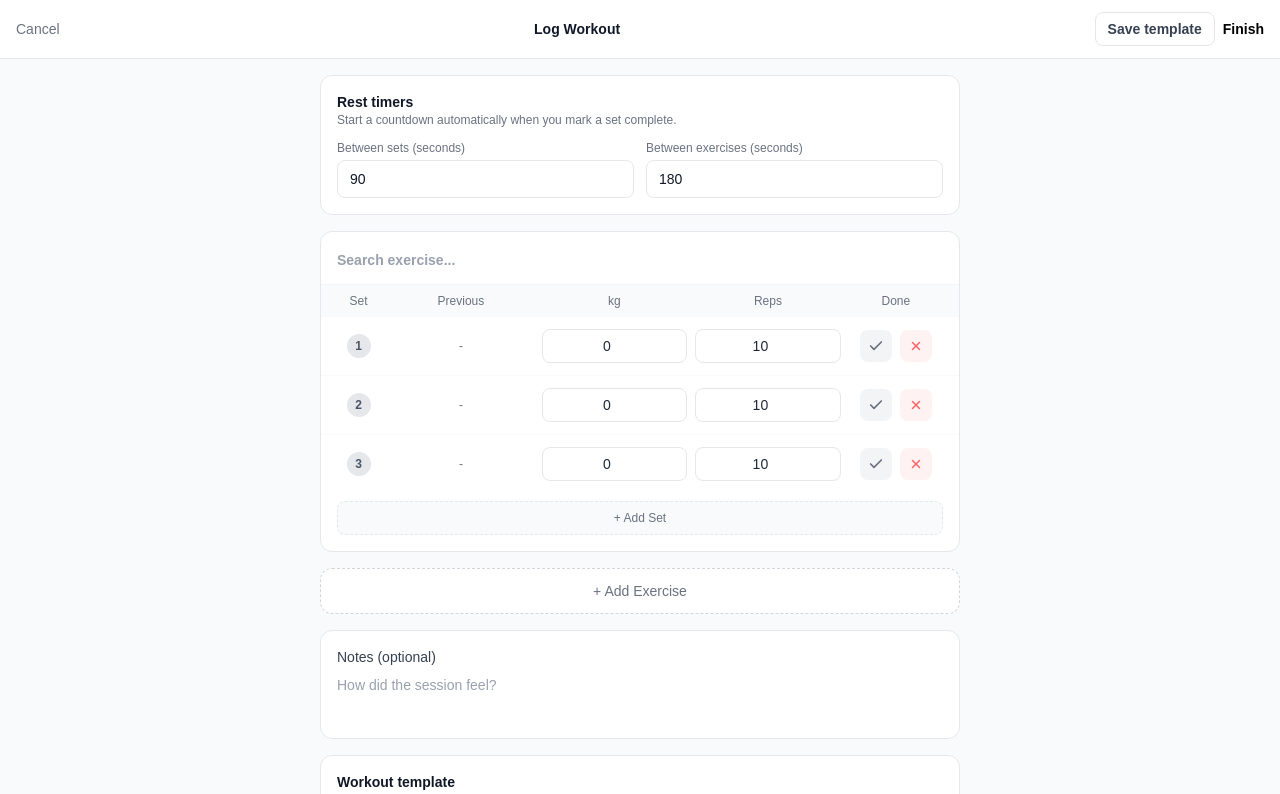
Scenario: LogWorkoutForm › clears loading and shows an error when the save request fails
Type "Ab" into the dropdown with placeholder "Search exercise...". click: (636, 260)
box: [337, 250, 935, 270]
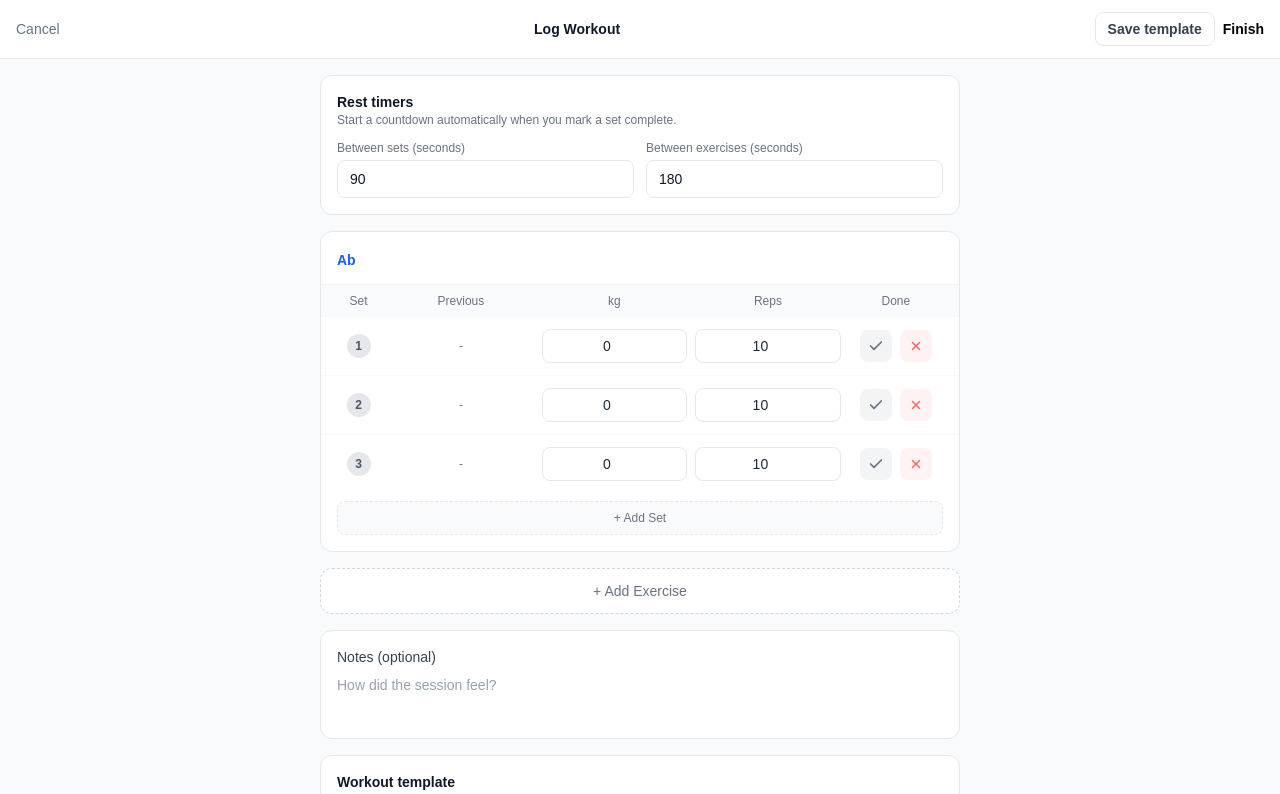
Click the button "Finish". click: (1243, 29)
box: [1223, 19, 1264, 39]
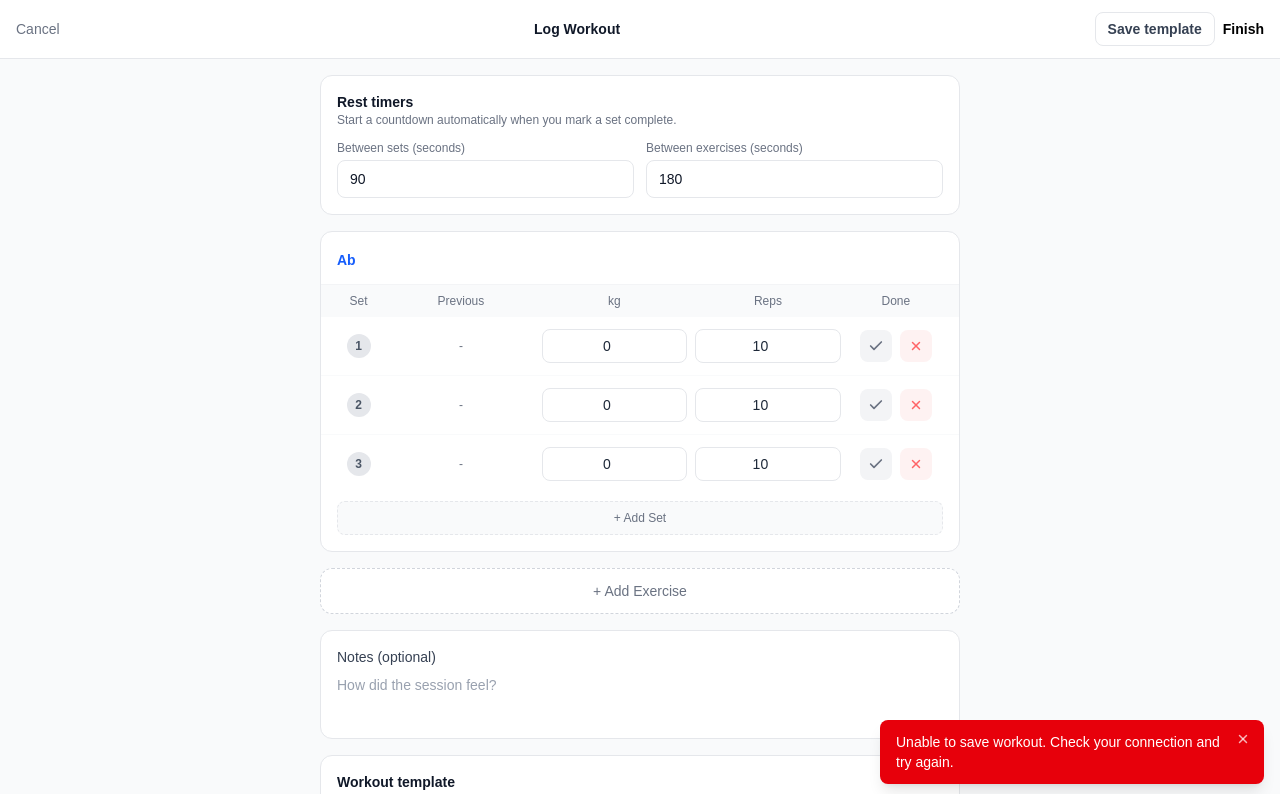
Now the text "Unable to save workout. Check your connection and try again." is shown, box [896, 732, 1222, 772]
